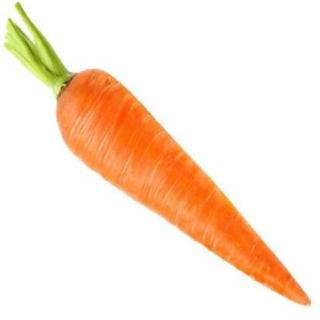carrot: (41, 54, 315, 310)
